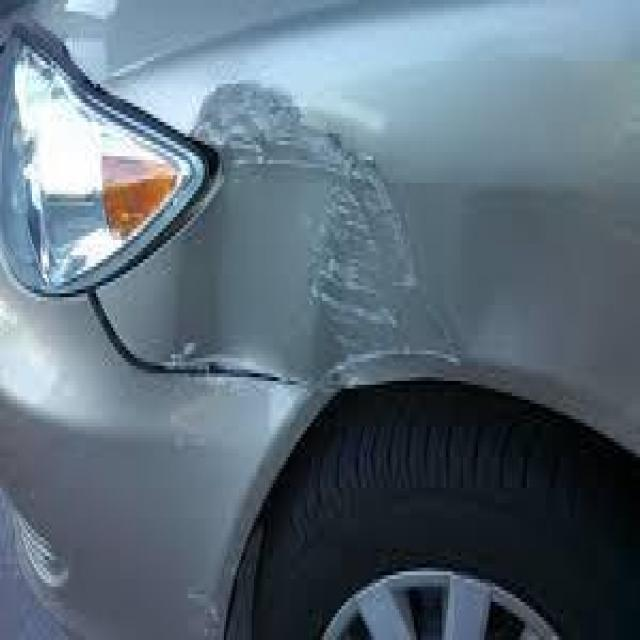damaged: (190, 80, 465, 385), (164, 392, 230, 621)
